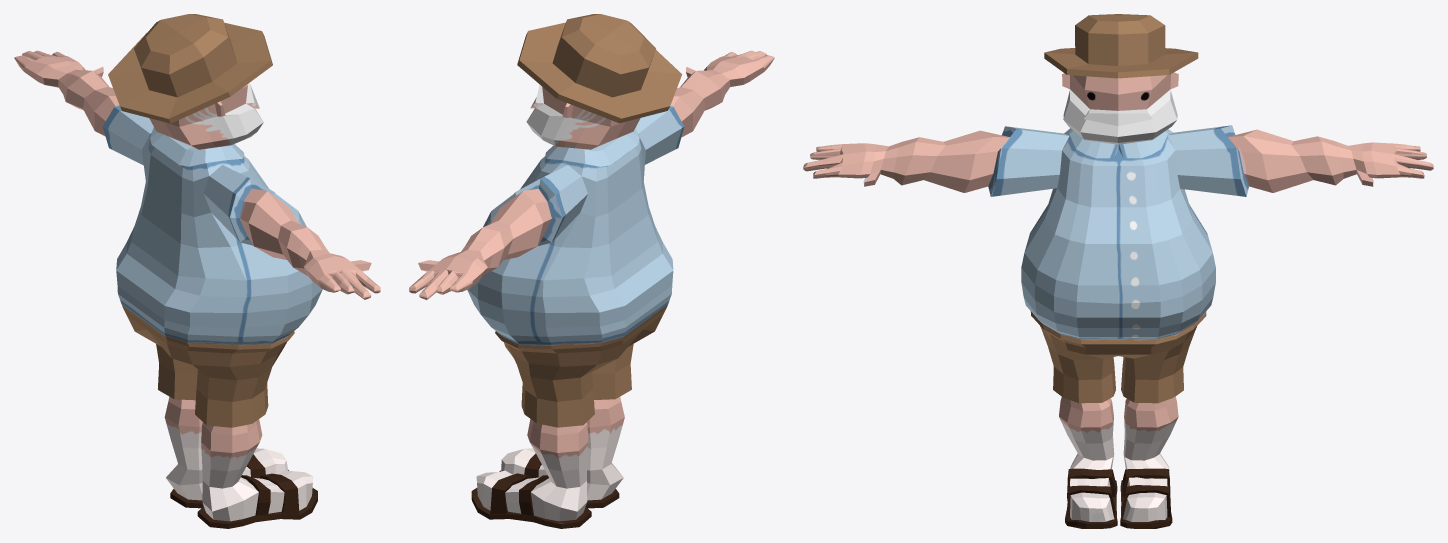
The model's file is fixedtextured_grandpaModel.fbx.
The picture shows the model from 3 angles, left to right: view 1: azimuth 30°, elevation 25°; view 2: azimuth 150°, elevation 25°; view 3: azimuth 270°, elevation 25°; orthographic projection. The views are drawn at different scales.
Visible parts, largest first — view 1: Plane, Plane.001; view 2: Plane, Plane.001; view 3: Plane, Plane.001.
Boxes of the visible parts, x1=… form: Plane: x1=14, y1=50, x2=380, y2=528; Plane.001: x1=108, y1=14, x2=272, y2=123; Plane: x1=409, y1=50, x2=774, y2=528; Plane.001: x1=517, y1=14, x2=682, y2=123; Plane: x1=803, y1=72, x2=1433, y2=528; Plane.001: x1=1044, y1=14, x2=1198, y2=78.
Size of the model in its own units: 379 by 119 by 312.
